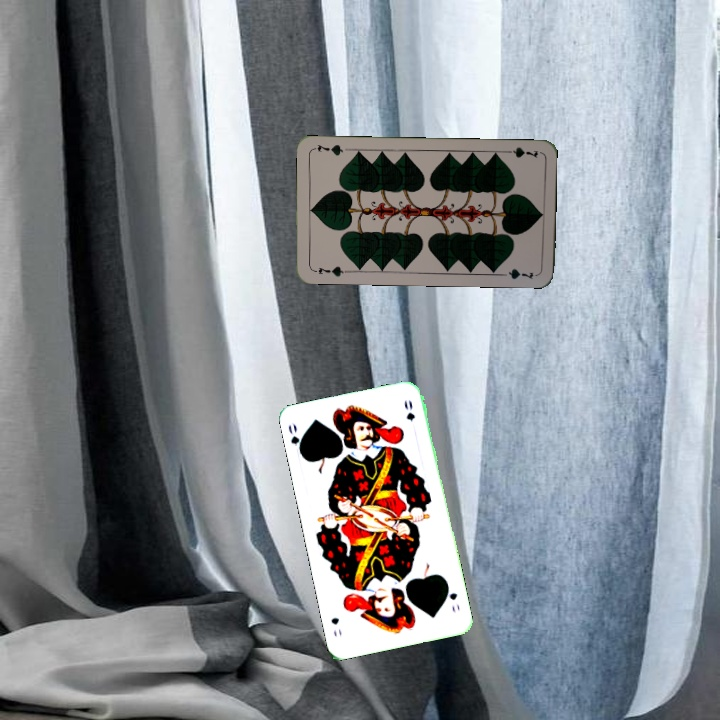G7: (500, 143, 541, 160), (309, 263, 350, 279)
GO: (284, 419, 306, 459), (443, 579, 462, 615)
